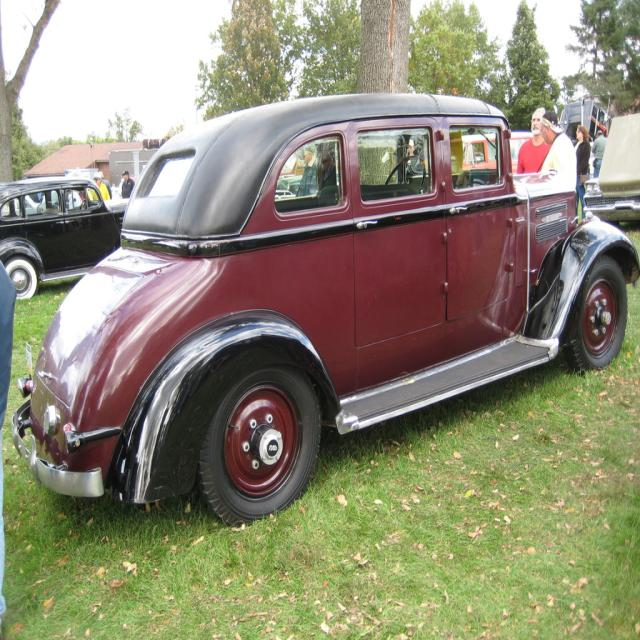car: (16, 88, 627, 525)
